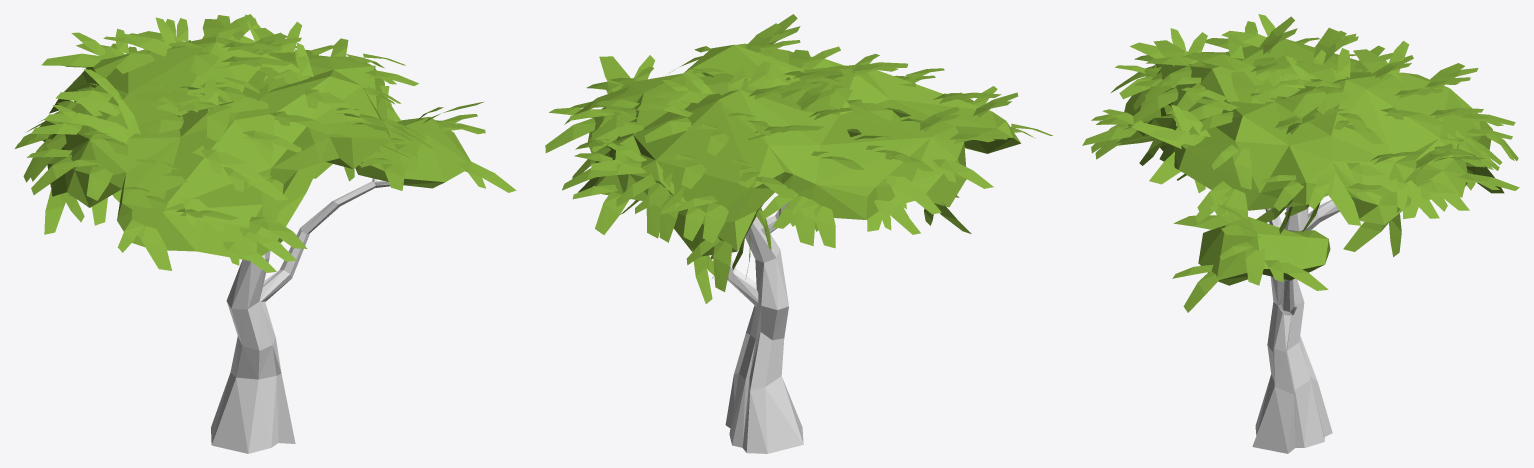
File: SM_Tree_Acacia_Young_A.fbx
3 views of the same model, side by side, from view 1: azimuth 30°, elevation 25°; view 2: azimuth 150°, elevation 25°; view 3: azimuth 270°, elevation 25° (orthographic). The views are drawn at different scales.
Visible parts, largest first — view 1: tree-acacia-young-a; view 2: tree-acacia-young-a; view 3: tree-acacia-young-a.
Part boxes in pixels (x1,y1,x2,y2): tree-acacia-young-a: (15,14,516,453); tree-acacia-young-a: (545,14,1052,453); tree-acacia-young-a: (1082,14,1519,453).
Size of the model in its own units: 5.17 by 4.23 by 4.63.
